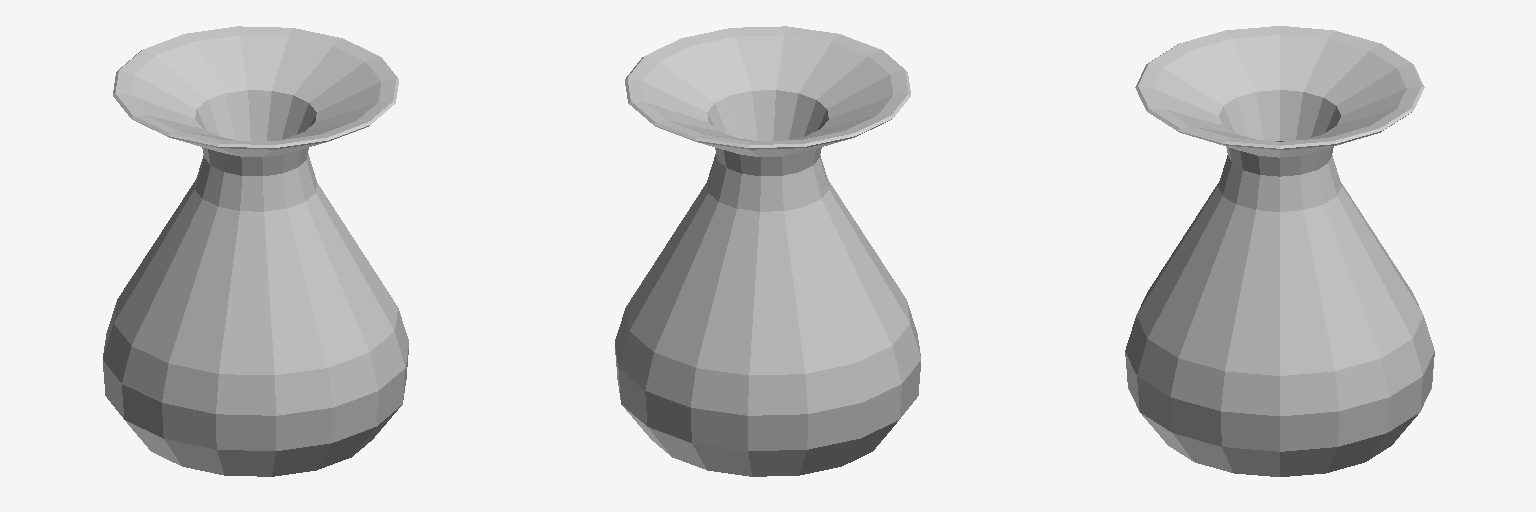
File: urn.obj
3 views of the same model, side by side, from view 1: azimuth 30°, elevation 25°; view 2: azimuth 150°, elevation 25°; view 3: azimuth 270°, elevation 25° (orthographic).
Parts seen in each view (by area): view 1: revolvedSurface1; view 2: revolvedSurface1; view 3: revolvedSurface1.
Boxes of the visible parts, <box> form: revolvedSurface1: <box>103,26,408,476</box>; revolvedSurface1: <box>615,26,920,476</box>; revolvedSurface1: <box>1125,26,1434,476</box>.
Bounding box in the file's own units: 15.56 × 18.86 × 15.56.